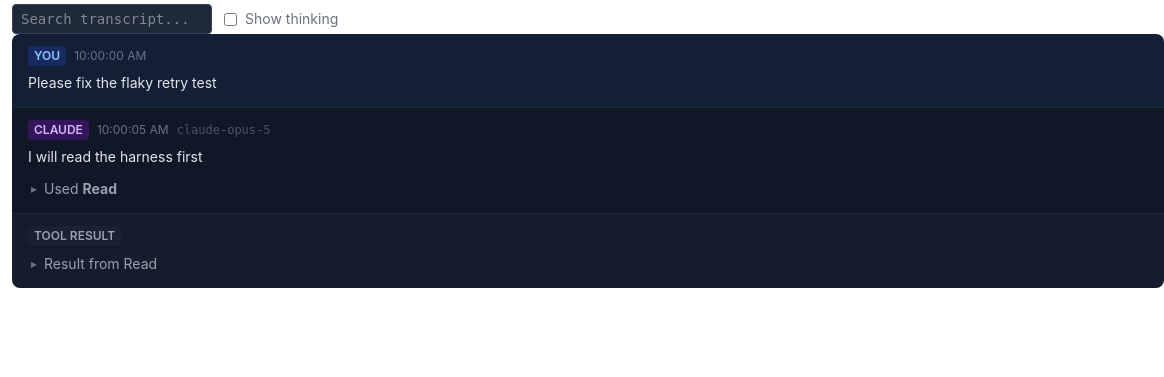
Test case: tool_use and tool_result blocks toggle their detail independently on click
Click the button "▸ Used Read" at {"x": 72, "y": 188}, box [28,176,117,200]
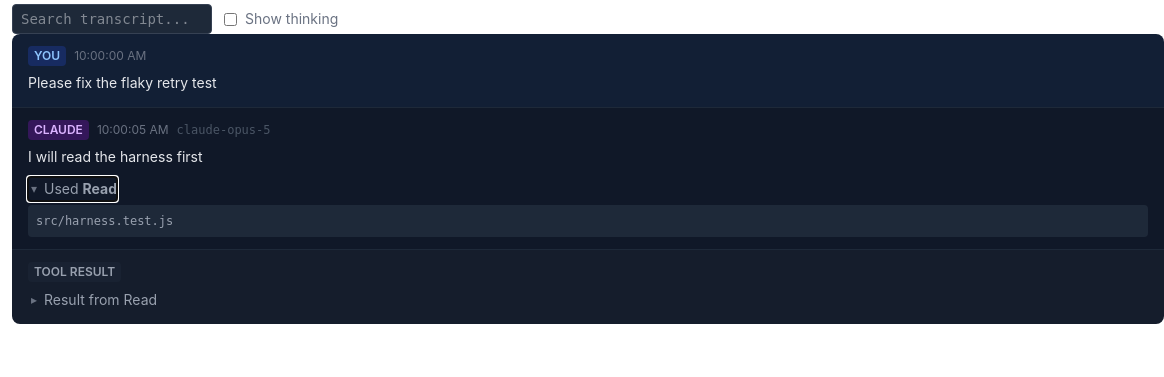
Expected: the text "export function retry() {}" is not shown
Now the text "src/harness.test.js" is shown, box [28,204,1148,236]
Click the button "▸ Result from Read" at {"x": 93, "y": 300}, box [28,288,157,312]
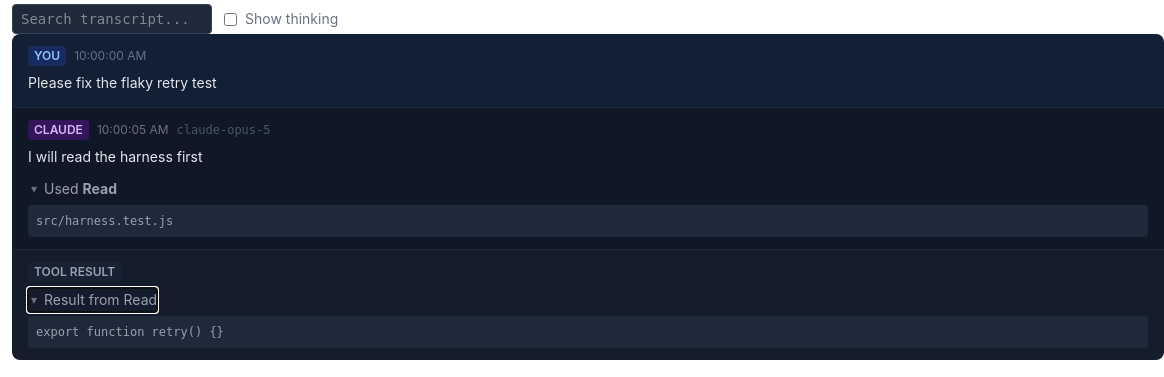
Now the text "src/harness.test.js" is shown, box [28,204,1148,236]
Now the text "export function retry() {}" is shown, box [28,316,1148,348]
Click the button "▾ Used Read" at {"x": 72, "y": 188}, box [28,176,117,200]
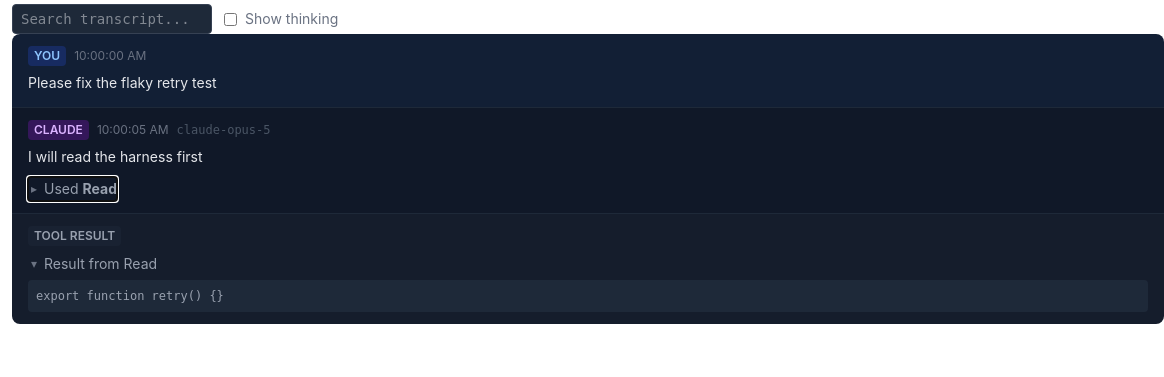
Now the text "export function retry() {}" is shown, box [28,280,1148,312]
Now the text "src/harness.test.js" is gone
